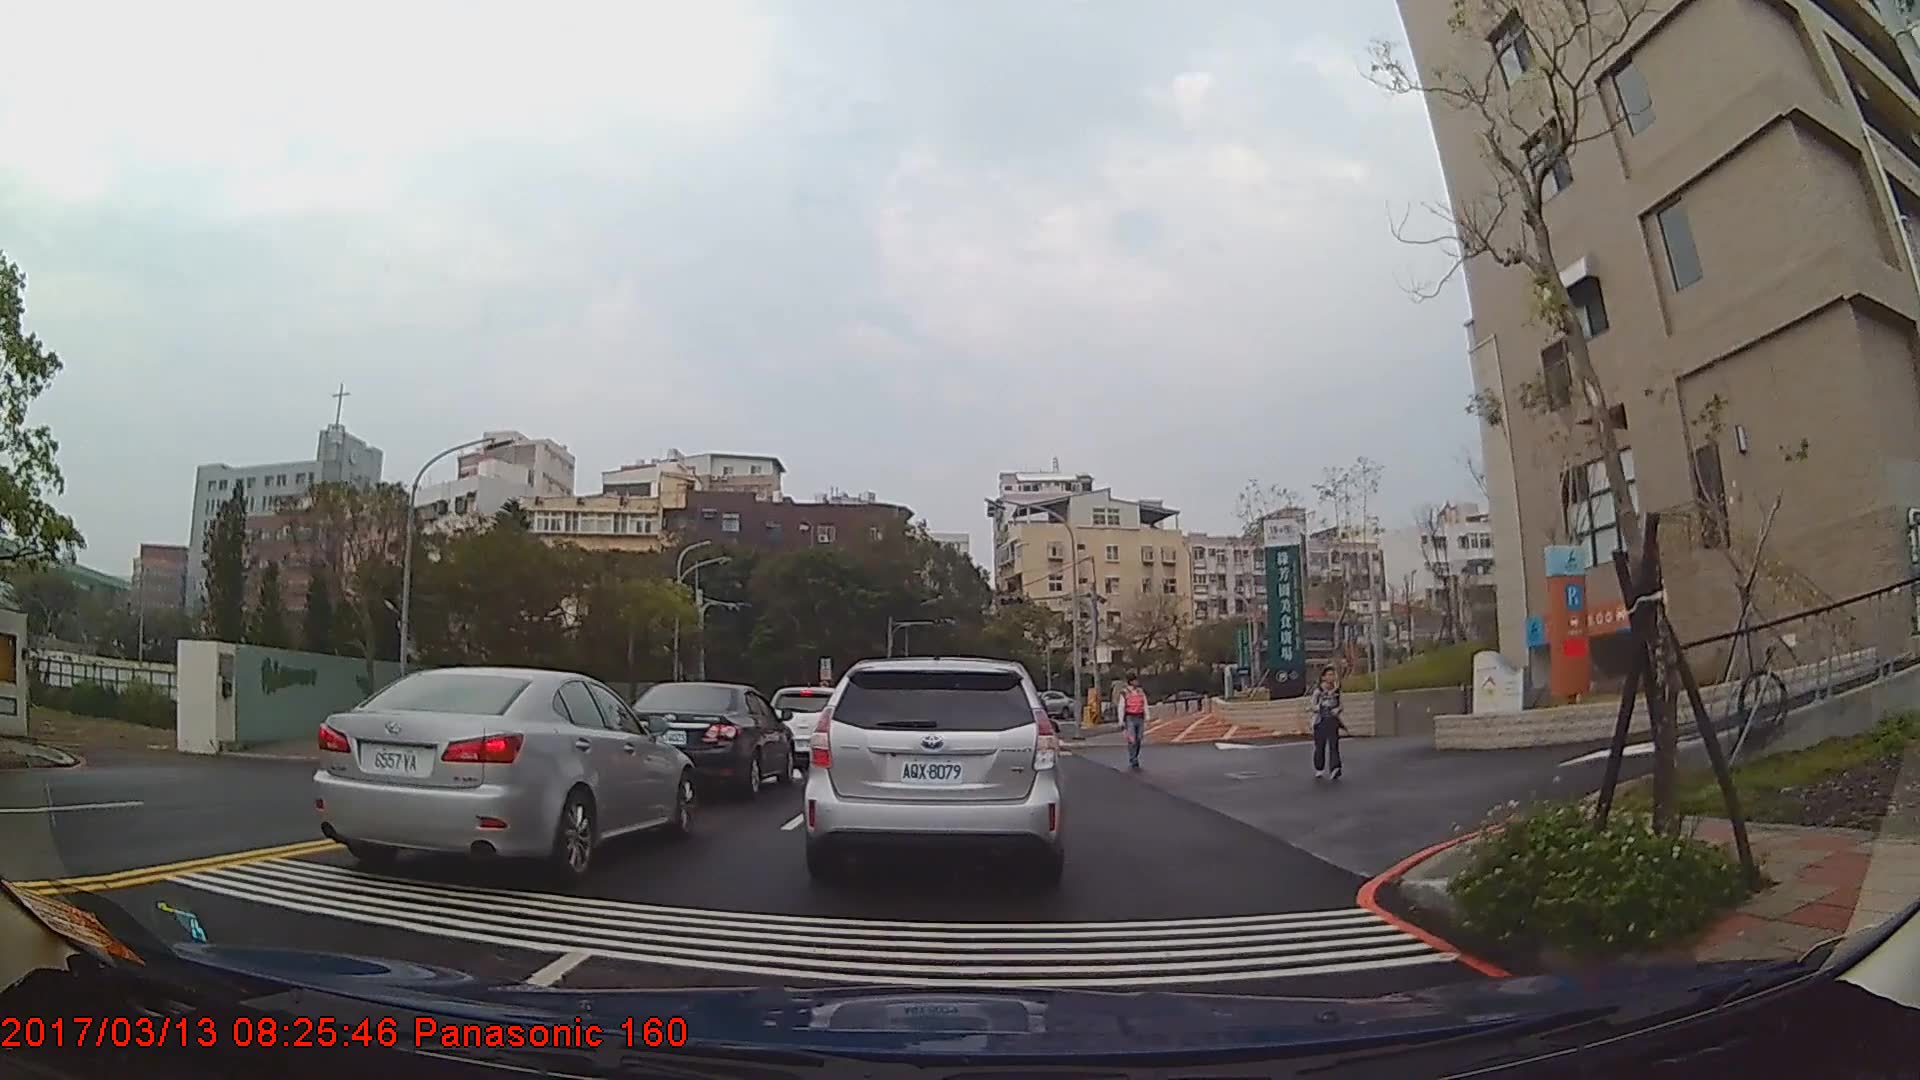pedestrian: (1312, 666, 1348, 781), (1120, 674, 1149, 769)
vehicle: (311, 666, 693, 880), (801, 654, 1063, 883), (618, 680, 795, 796)
